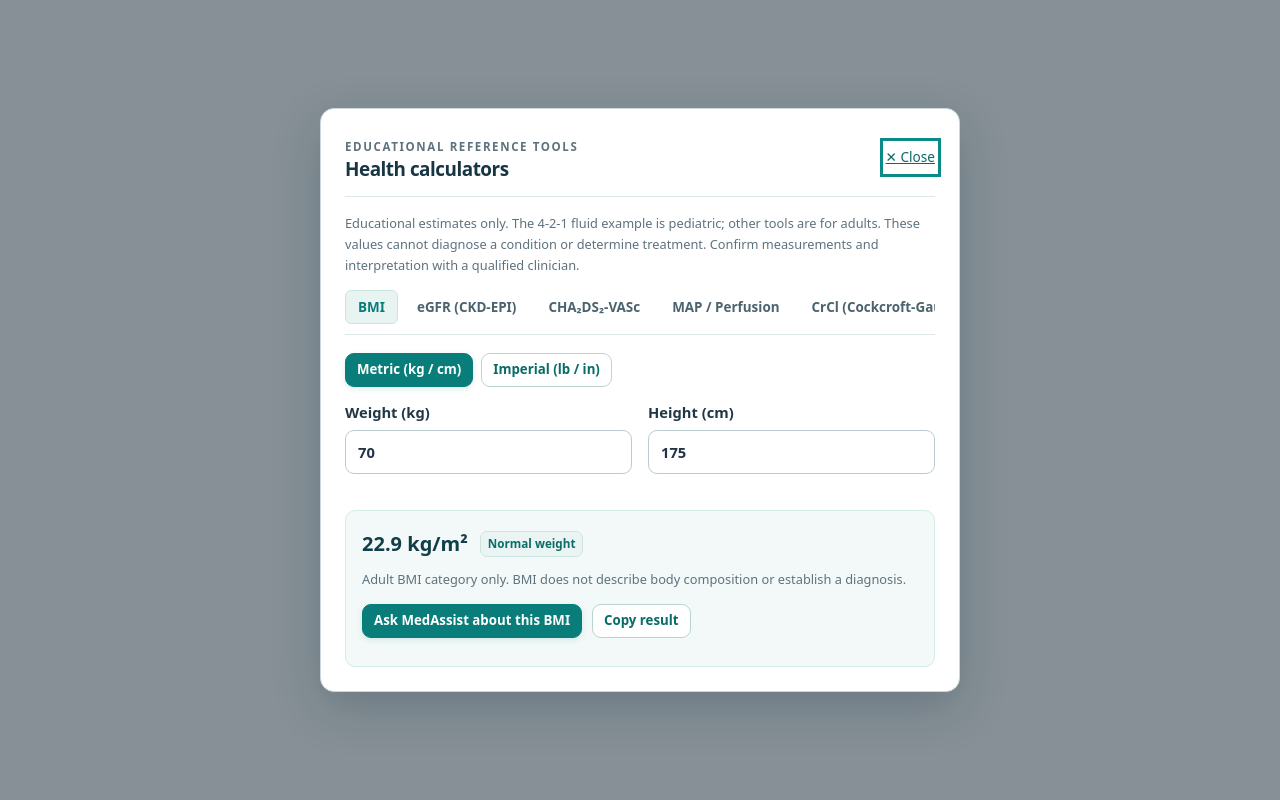
keeps score and pressure calculators free of treatment conclusions
Click the tab "CHA₂DS₂-VASc" at (594, 307), box [535, 290, 653, 324]
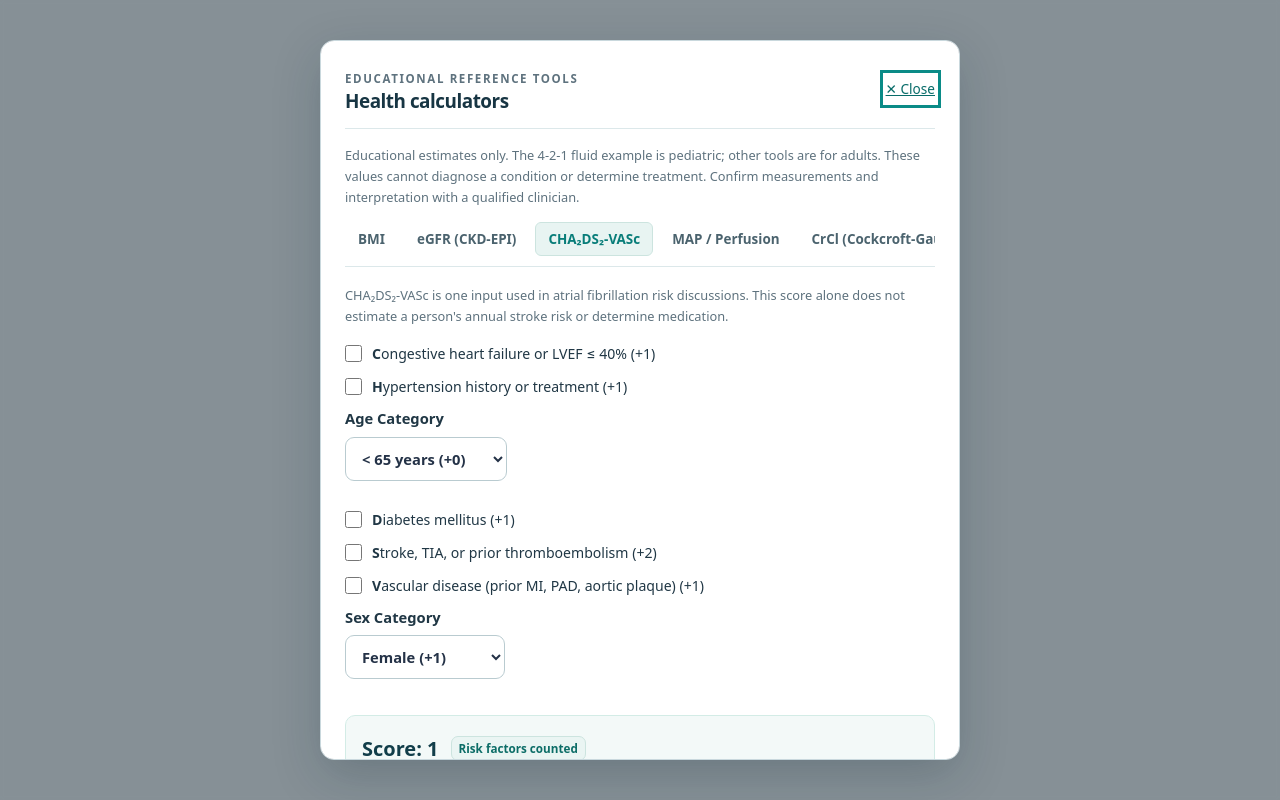
Expected: the text "Score: 1" is shown, [362, 734, 438, 760]
Expected: the text "does not estimate a person's annual stroke risk" is shown, [345, 286, 905, 325]
Click the tab "MAP / Perfusion" at (726, 239), box [659, 222, 793, 256]
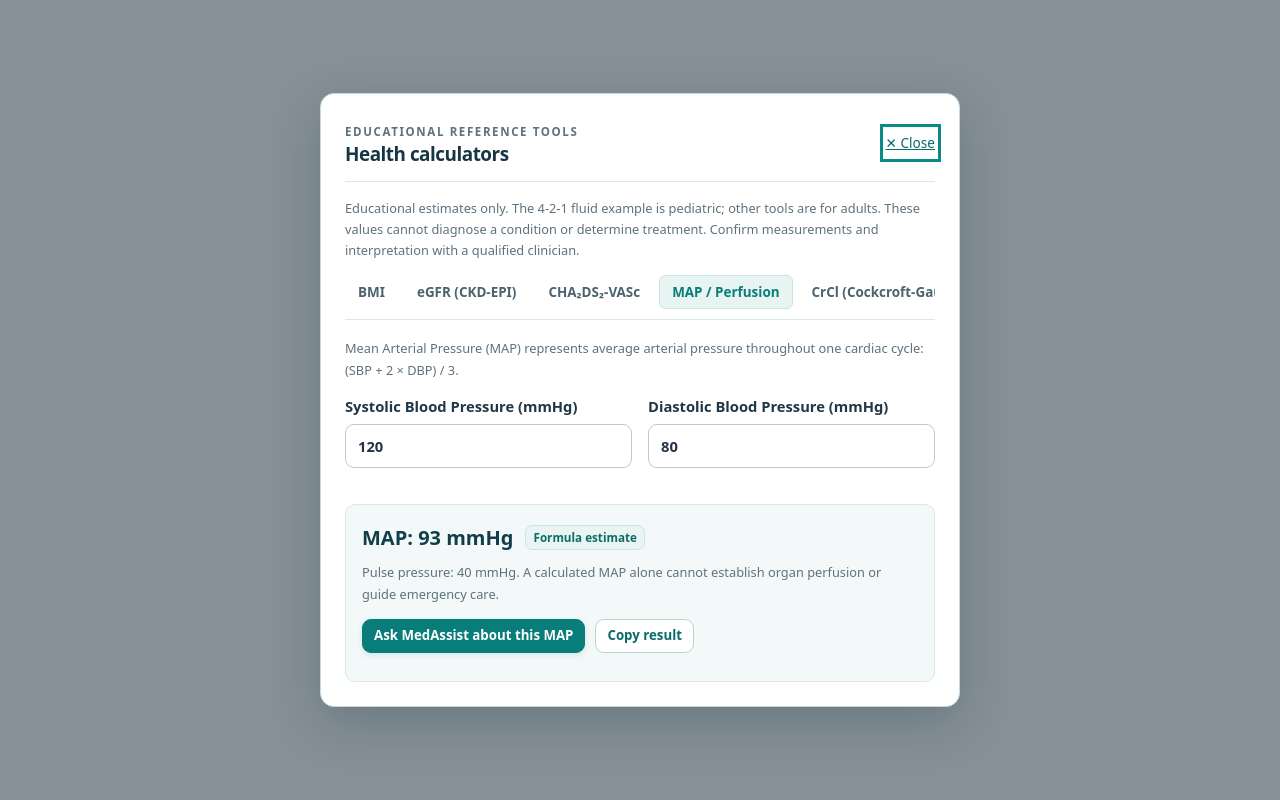
Expected: the text "cannot establish organ perfusion" is shown, [362, 563, 881, 602]
Click the tab "CrCl (Cockcroft-Gault)" at (884, 292), box [798, 275, 970, 310]
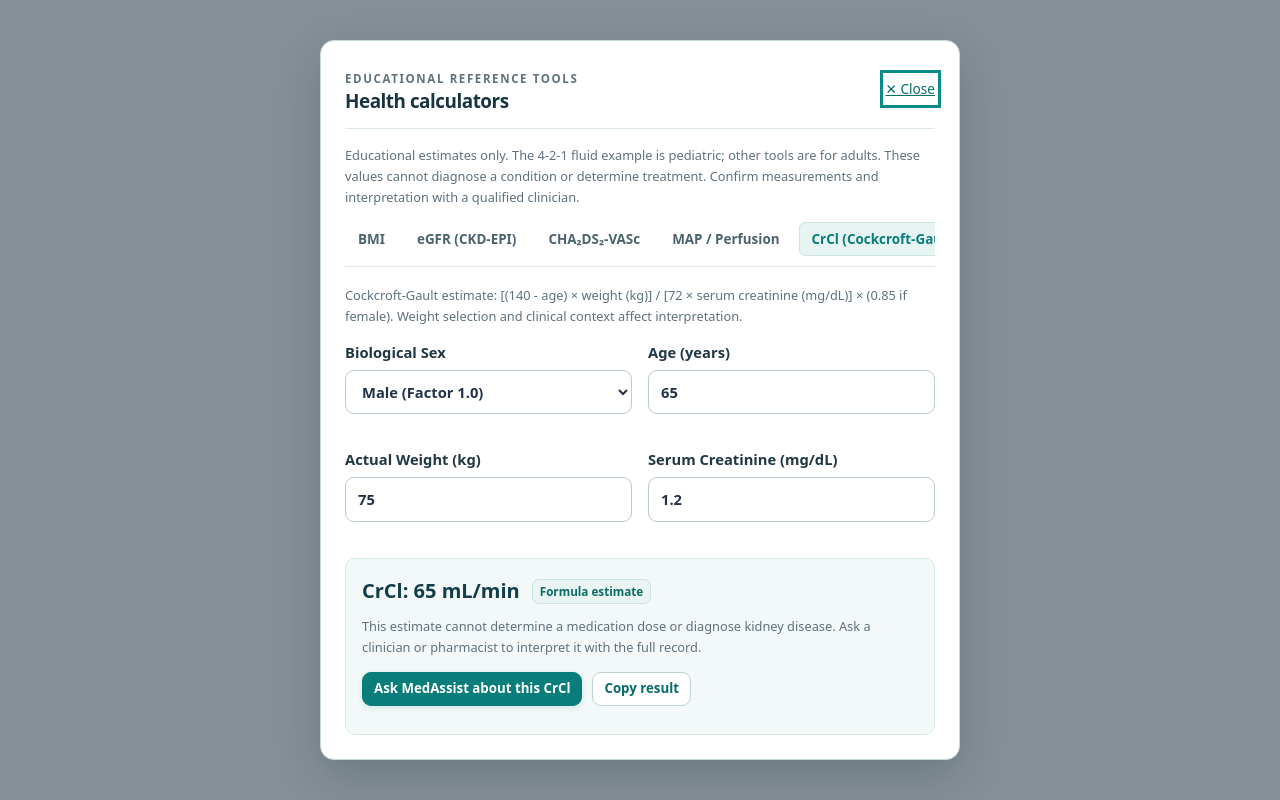
Expected: the text "cannot determine a medication dose" is shown, [362, 617, 871, 656]
